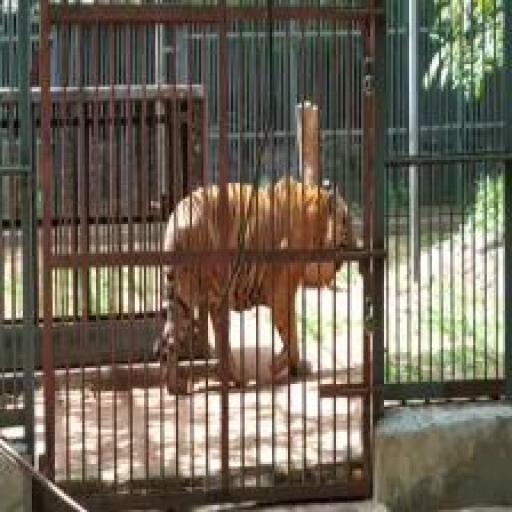Tiger: (144, 149, 395, 440)
